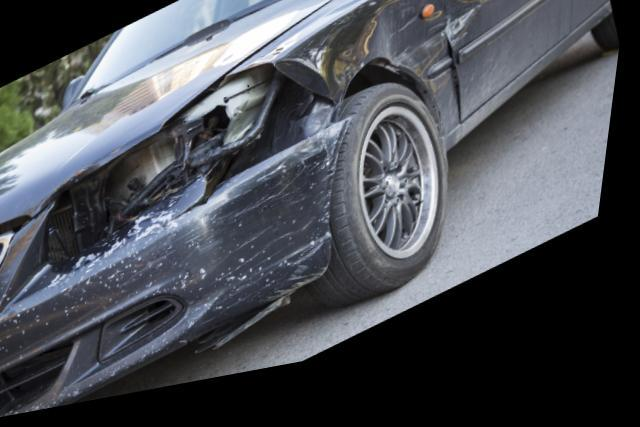crack: (171, 189, 224, 230)
dent: (385, 0, 450, 88), (445, 0, 484, 59)
dislocated part: (20, 94, 352, 414)
lamp broken: (54, 72, 285, 269)
scratch: (128, 137, 353, 325)
